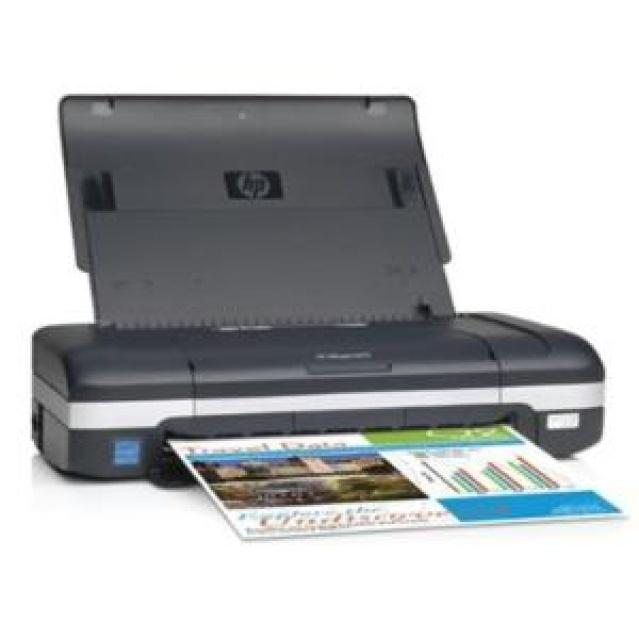Printer: (28, 93, 606, 544)
